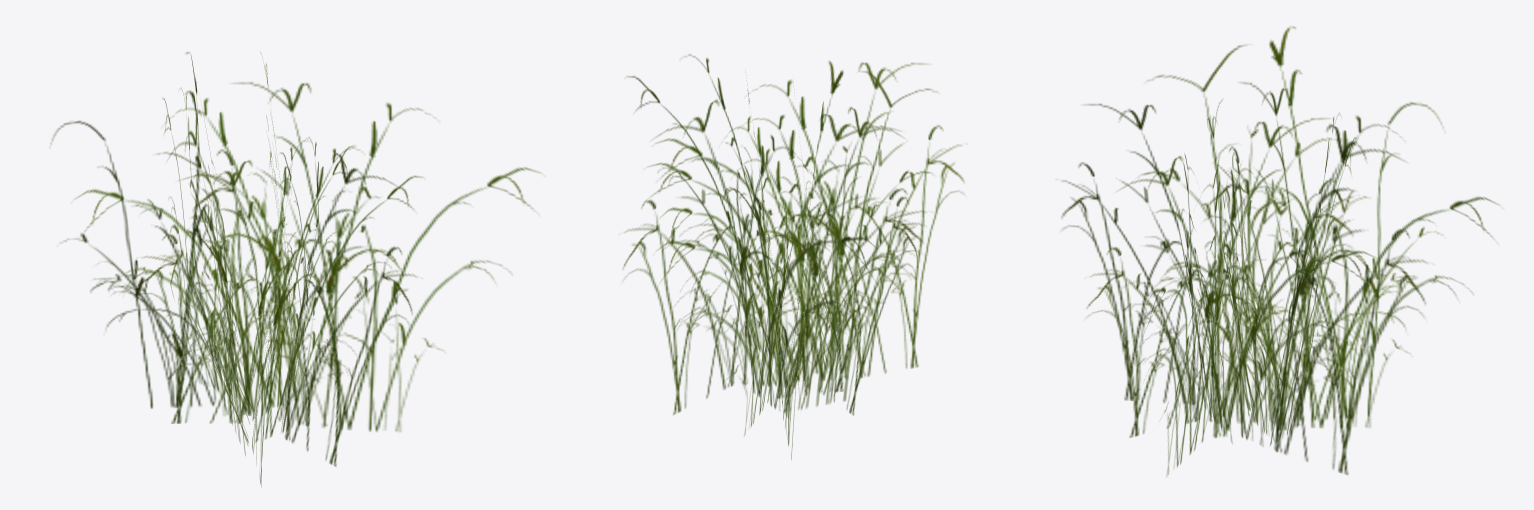
Rendered from tall.glb.
3 renders of one model, left to right at view 1: azimuth 30°, elevation 25°; view 2: azimuth 150°, elevation 25°; view 3: azimuth 270°, elevation 25°, orthographic. The views are drawn at different scales.
Visible parts, largest first — view 1: tall; view 2: tall; view 3: tall.
Boxes of the visible parts, left/top/right/bottom form: tall: left=51, top=52, right=540, bottom=486; tall: left=623, top=54, right=964, bottom=459; tall: left=1061, top=26, right=1498, bottom=476.
Size of the model in its own units: 0.5065 by 0.496 by 0.5364.
Materials: 1 (1 with a texture image).
